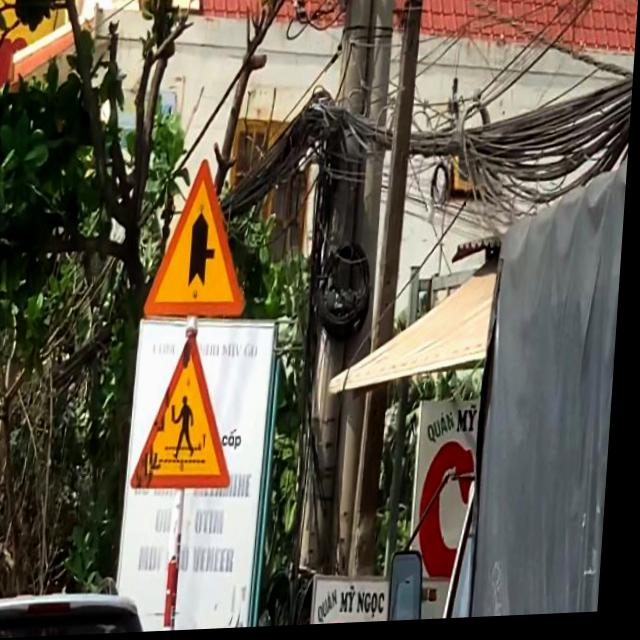Giao nhau voi duong khong uu tien ben phai: (145, 157, 258, 324)
Nguoi di bo cat ngang: (135, 334, 246, 496)
